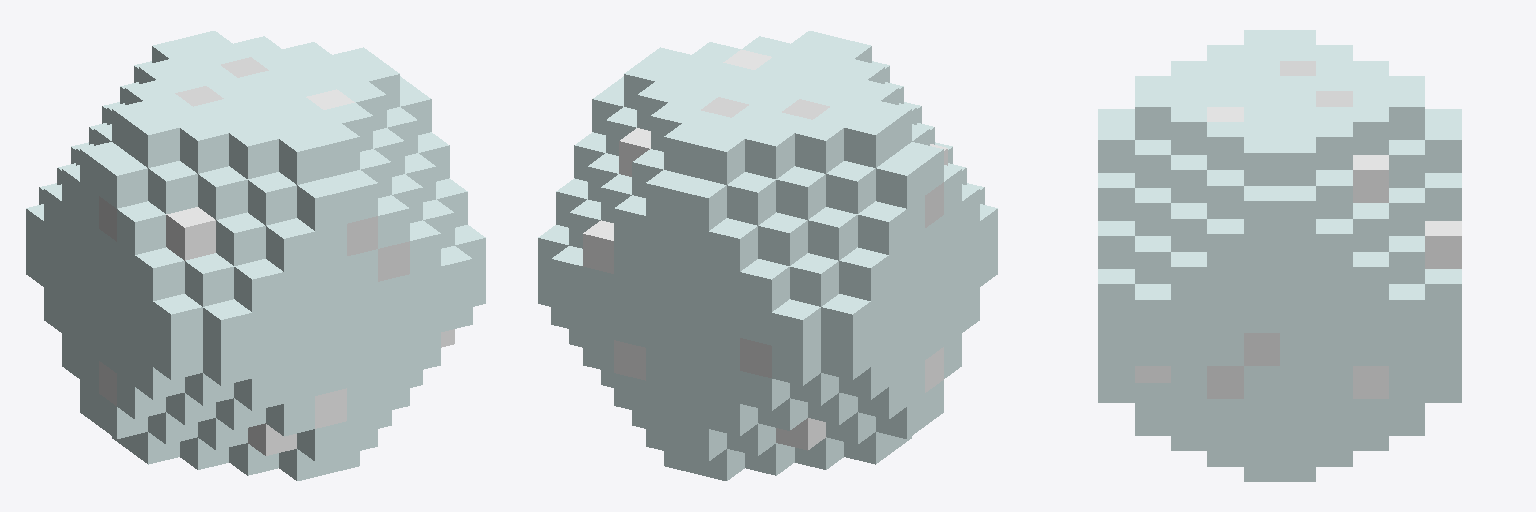
3 views of the same model, side by side, from view 1: azimuth 30°, elevation 25°; view 2: azimuth 150°, elevation 25°; view 3: azimuth 270°, elevation 25° (orthographic).
Parts seen in each view (by area): view 1: object 1; view 2: object 1; view 3: object 1.
Part boxes in pixels (left/top/right/bottom): object 1: left=26, top=31, right=485, bottom=480; object 1: left=538, top=31, right=997, bottom=480; object 1: left=1098, top=30, right=1461, bottom=481.
Bounding box in the file's own units: 1 × 1 × 1.
1 materials, 1 textured.